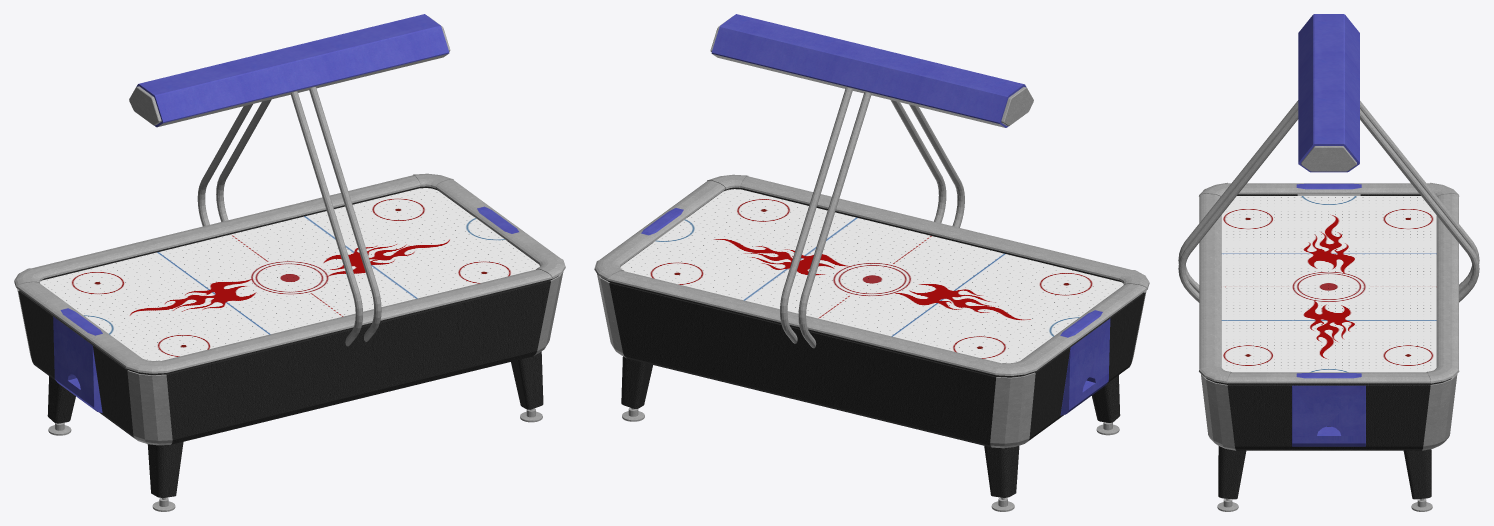
The model's file is AirHockey03.fbx.
The picture shows the model from 3 angles, left to right: view 1: azimuth 30°, elevation 25°; view 2: azimuth 150°, elevation 25°; view 3: azimuth 270°, elevation 25°; orthographic projection. The views are drawn at different scales.
Visible parts, largest first — view 1: Imported_OBJ_Object; view 2: Imported_OBJ_Object; view 3: Imported_OBJ_Object.
Boxes of the visible parts, box(x1,y1,x2,y2) form: Imported_OBJ_Object: box(14, 14, 565, 511); Imported_OBJ_Object: box(594, 14, 1149, 511); Imported_OBJ_Object: box(1178, 14, 1479, 511).
Size of the model in its own units: 258 by 208 by 165.
